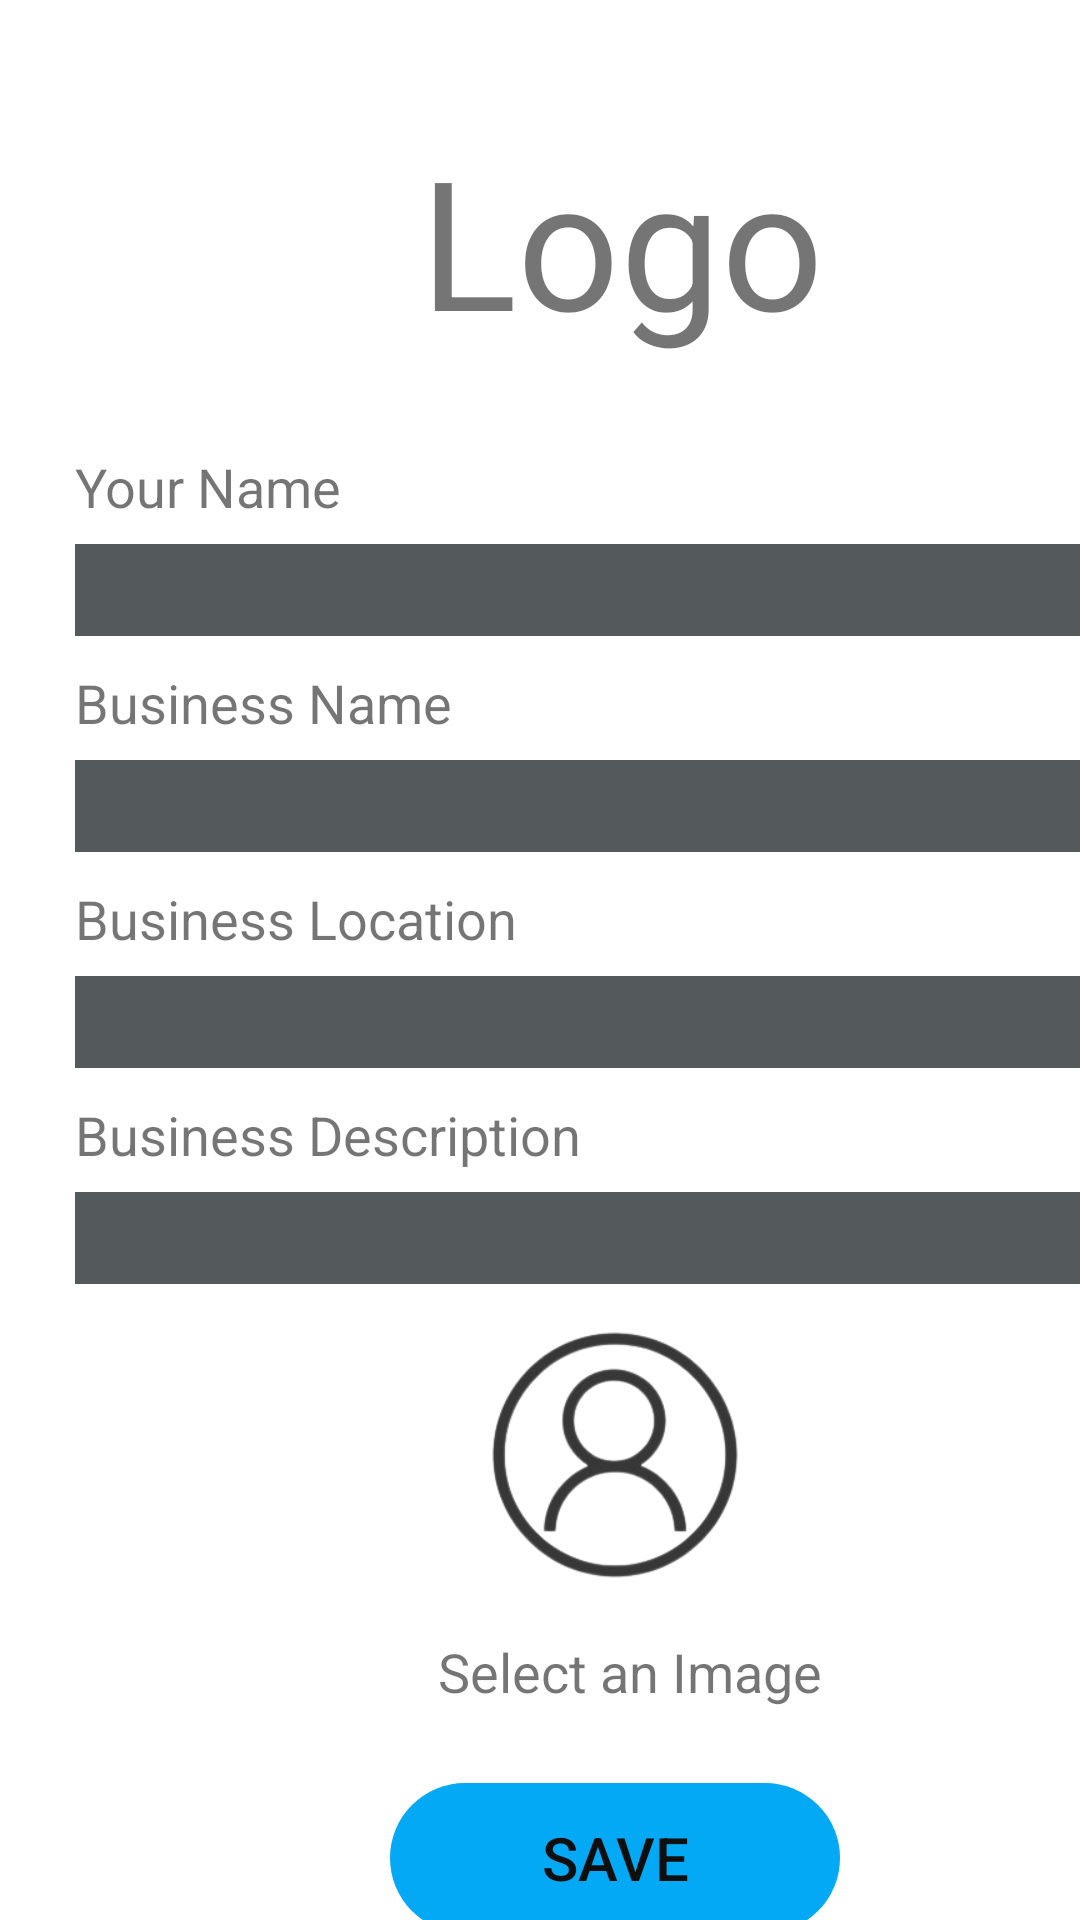

Where icons sit on this 1080px×1920px app screen, as (x1, y1, x2, y2):
profile: (492, 1332, 738, 1578)
